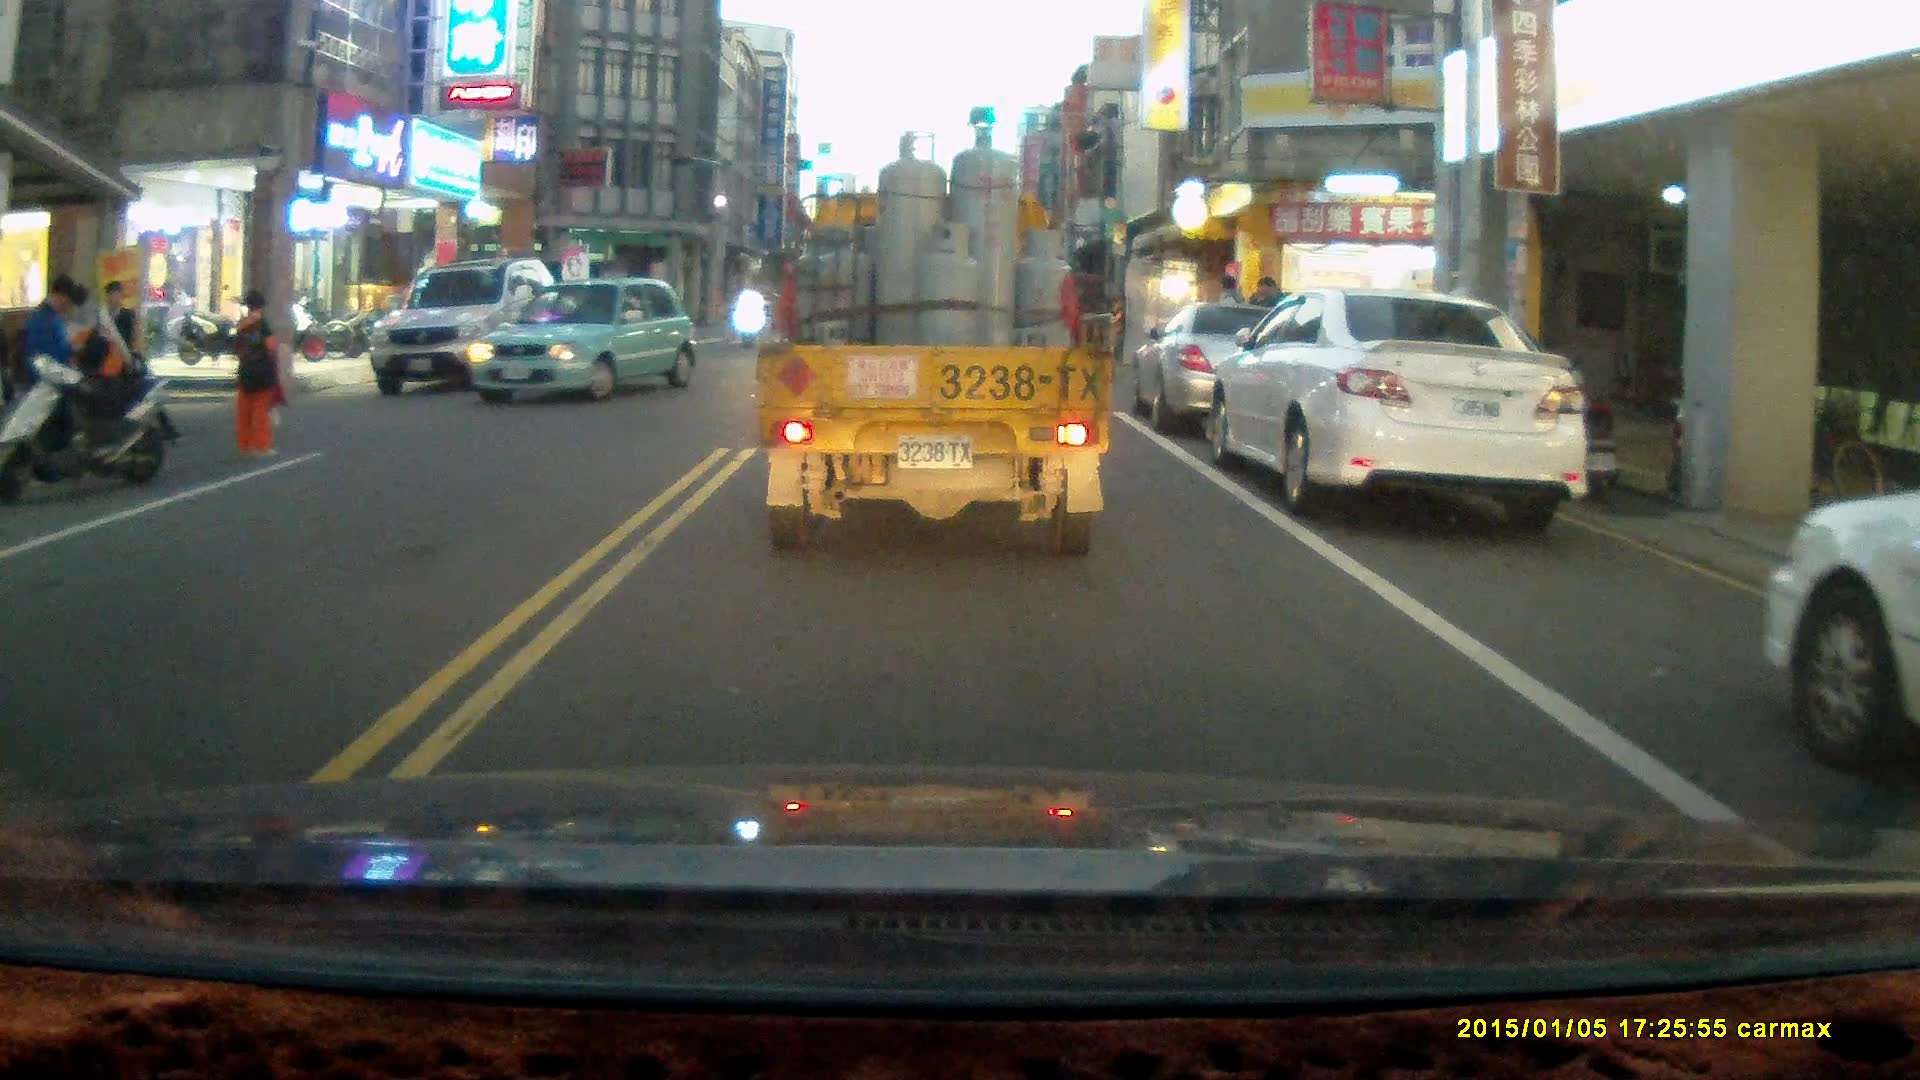pedestrian: (6, 273, 92, 470), (227, 286, 297, 458), (84, 280, 138, 428)
rider: (733, 286, 764, 353)
vehicle: (756, 121, 1115, 558), (1214, 283, 1595, 532), (1759, 446, 1920, 794), (1135, 298, 1391, 441), (469, 281, 700, 410), (372, 259, 572, 398)
